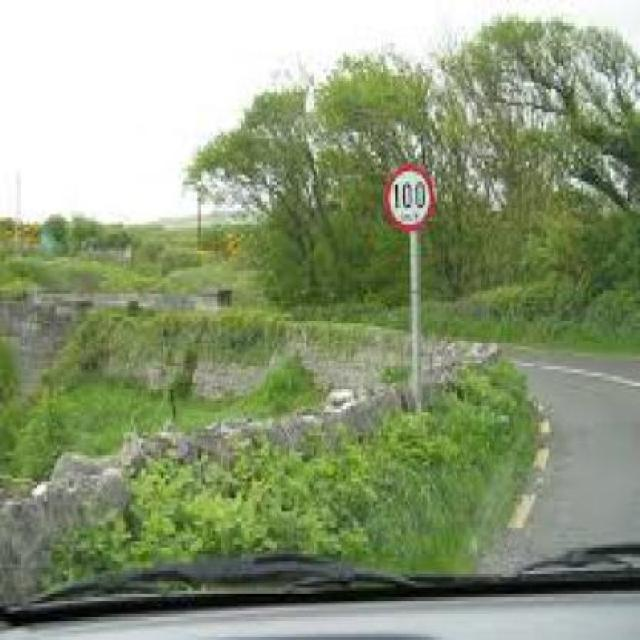forb_speed_over_100: (383, 162, 435, 231)
